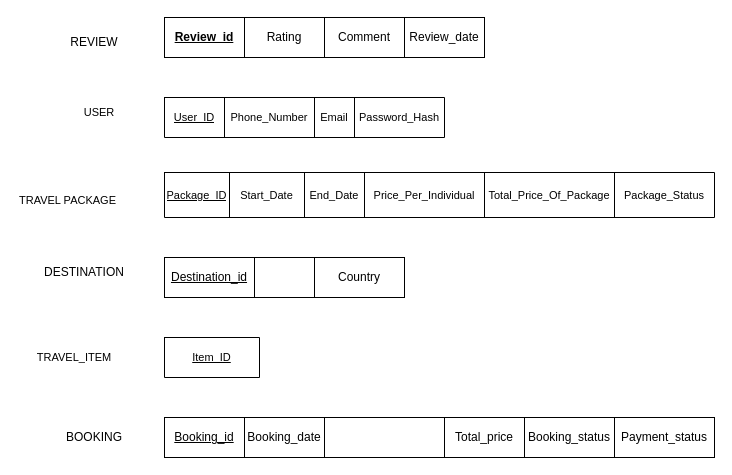
This 732x475 diagram has some shape labels left out. The centre of each missing label's shape, as x and y in pixels:
City: the point at 284,277
Number_of_people: the point at 384,437
